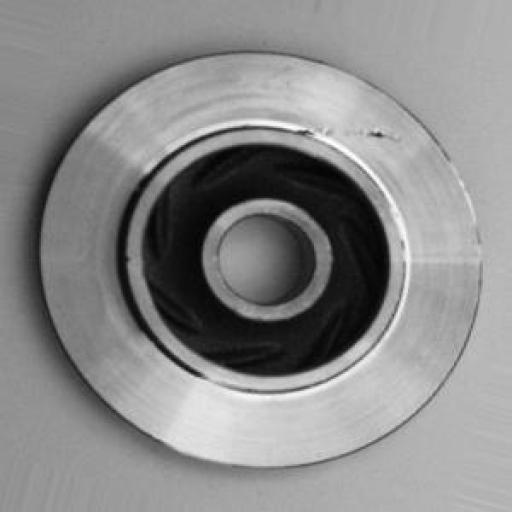defect: (250, 75, 428, 181)
